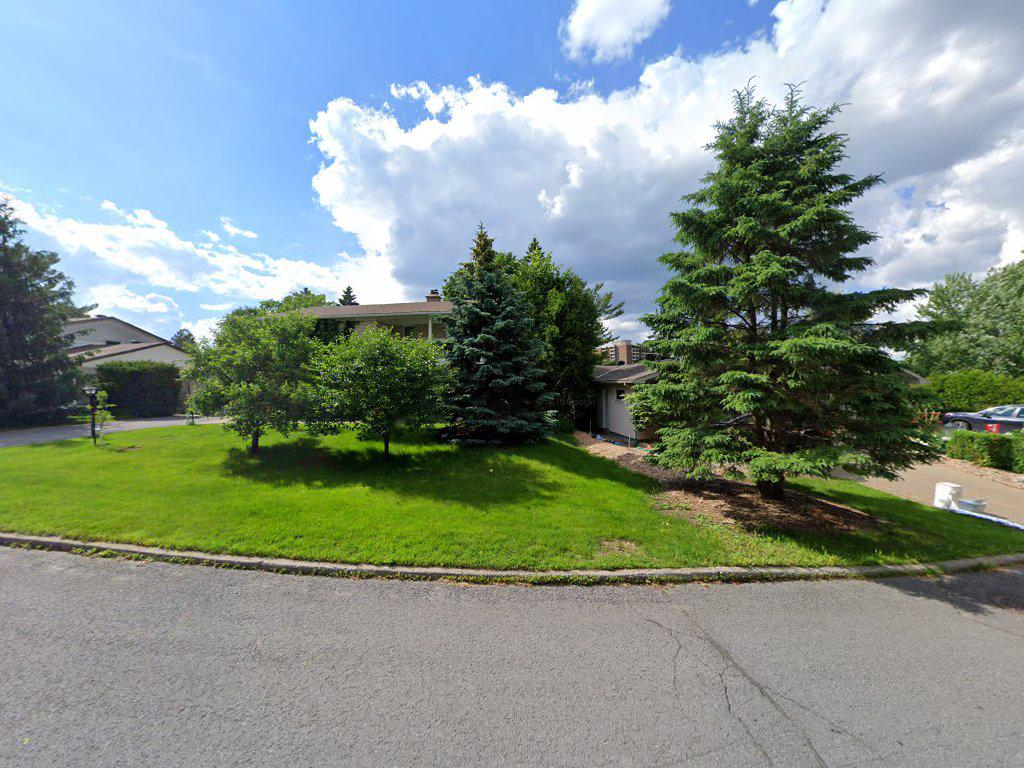trunk: (248, 424, 264, 456), (382, 432, 394, 460)
